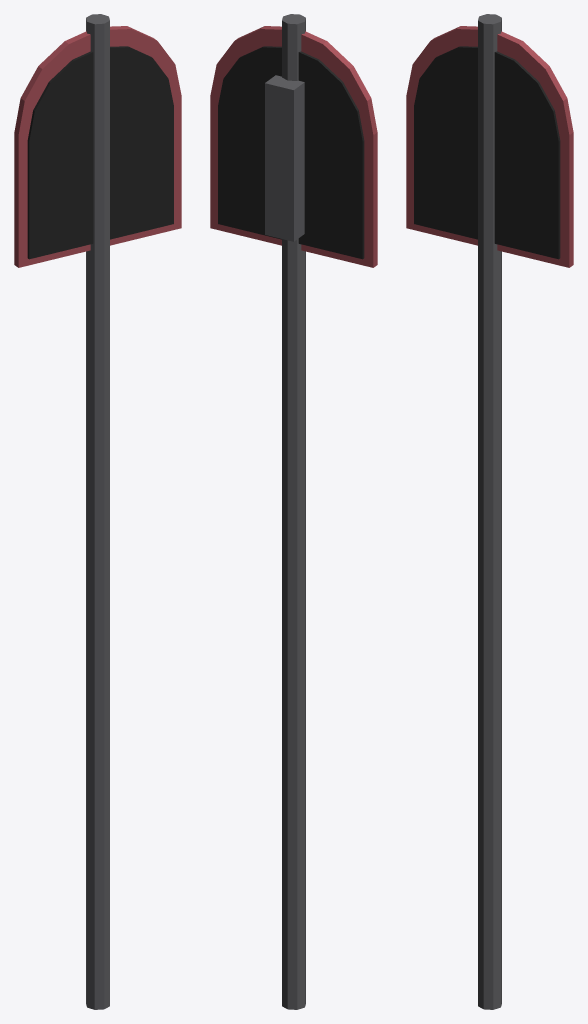
Rendered from cable_car_stop_sign.glb.
3 renders of one model, left to right at view 1: azimuth 30°, elevation 25°; view 2: azimuth 150°, elevation 25°; view 3: azimuth 330°, elevation 25°, orthographic.
Visible parts, largest first — view 1: cable_car_stop_sign, sign_face; view 2: cable_car_stop_sign, sign_face; view 3: cable_car_stop_sign, sign_face.
Boxes of the visible parts, bbox=[...] form: cable_car_stop_sign: bbox=[14, 14, 181, 1009]; sign_face: bbox=[27, 46, 173, 259]; cable_car_stop_sign: bbox=[210, 14, 377, 1009]; sign_face: bbox=[218, 46, 364, 259]; cable_car_stop_sign: bbox=[406, 14, 573, 1009]; sign_face: bbox=[414, 46, 560, 259].
Bounding box in the file's own units: 0.45 × 2.6 × 0.1.
